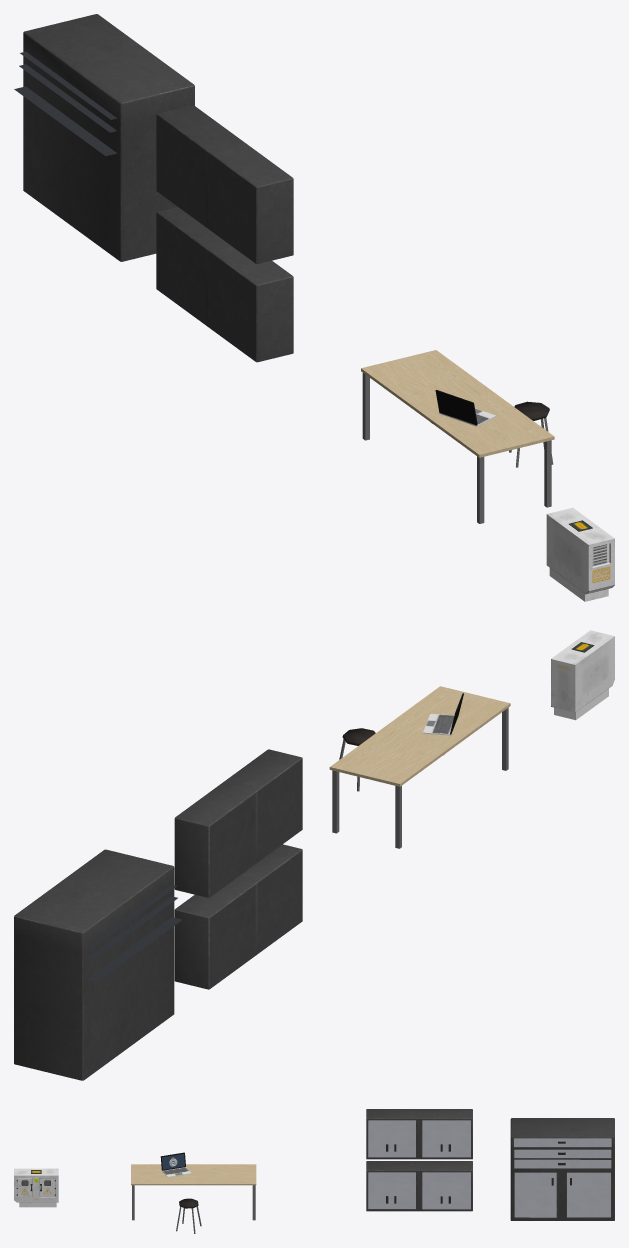
Rendered from Props1.fbx.
3 views of the same model, one above another, from view 1: azimuth 30°, elevation 25°; view 2: azimuth 150°, elevation 25°; view 3: azimuth 270°, elevation 25° (orthographic). The views are drawn at different scales.
Parts seen in each view (by area): view 1: Gabinetes1, Gabinetes2, Mesa2, Contadore, PortaHerramienta1, PcPortatil; view 2: Gabinetes2, Gabinetes1, Mesa2, Contadore, PortaHerramienta1, PcPortatil, PortaHerramienta2; view 3: Gabinetes2, Gabinetes1, Mesa2, Gabinetes2_Cajon4, Gabinetes2_Cajon5, Contadore, Gabinetes1_Cajon5, Gabinetes1_Cajon1, Gabinetes1_Cajon3, Gabinetes2_Cajon3, Gabinetes1_Cajon8, Gabinetes1_Cajon6 (+7 smaller).
Part boxes in pixels (left/top/right/bottom): Gabinetes1: left=156, top=105, right=293, bottom=362; Gabinetes2: left=23, top=14, right=194, bottom=261; Mesa2: left=361, top=350, right=554, bottom=523; Contadore: left=546, top=507, right=614, bottom=601; PortaHerramienta1: left=14, top=86, right=117, bottom=156; PcPortatil: left=435, top=390, right=496, bottom=426; Gabinetes2: left=14, top=849, right=174, bottom=1080; Gabinetes1: left=174, top=749, right=302, bottom=989; Mesa2: left=329, top=686, right=510, bottom=848; Contadore: left=551, top=630, right=614, bottom=720; PortaHerramienta1: left=86, top=917, right=182, bottom=982; PcPortatil: left=423, top=693, right=463, bottom=735; PortaHerramienta2: left=87, top=896, right=177, bottom=960; Gabinetes2: left=510, top=1118, right=614, bottom=1220; Gabinetes1: left=366, top=1109, right=472, bottom=1211; Mesa2: left=131, top=1164, right=256, bottom=1220; Gabinetes2_Cajon4: left=567, top=1172, right=610, bottom=1217; Gabinetes2_Cajon5: left=514, top=1172, right=556, bottom=1217; Contadore: left=14, top=1168, right=58, bottom=1207; Gabinetes1_Cajon5: left=445, top=1172, right=470, bottom=1209; Gabinetes1_Cajon1: left=445, top=1120, right=470, bottom=1157; Gabinetes1_Cajon3: left=391, top=1120, right=415, bottom=1157; Gabinetes2_Cajon3: left=514, top=1159, right=611, bottom=1168; Gabinetes1_Cajon8: left=391, top=1172, right=415, bottom=1208; Gabinetes1_Cajon6: left=422, top=1172, right=445, bottom=1209.
Size of the model in its own units: 164 by 198 by 1164.
